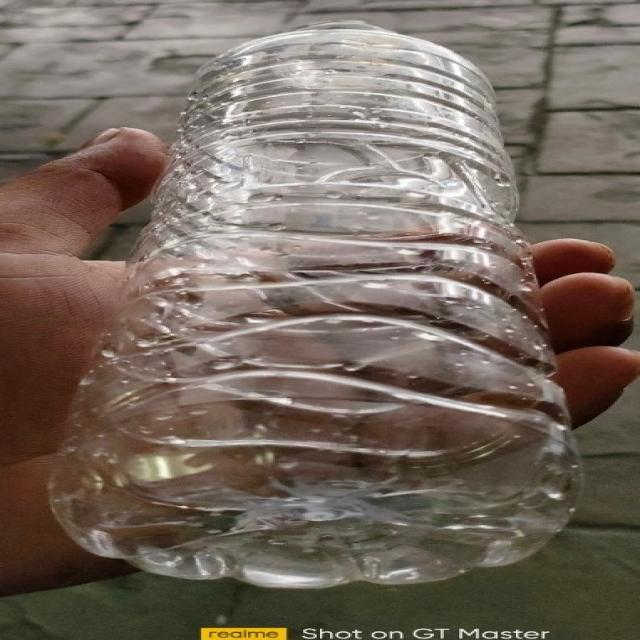plastic_bottle: (56, 18, 584, 589)
